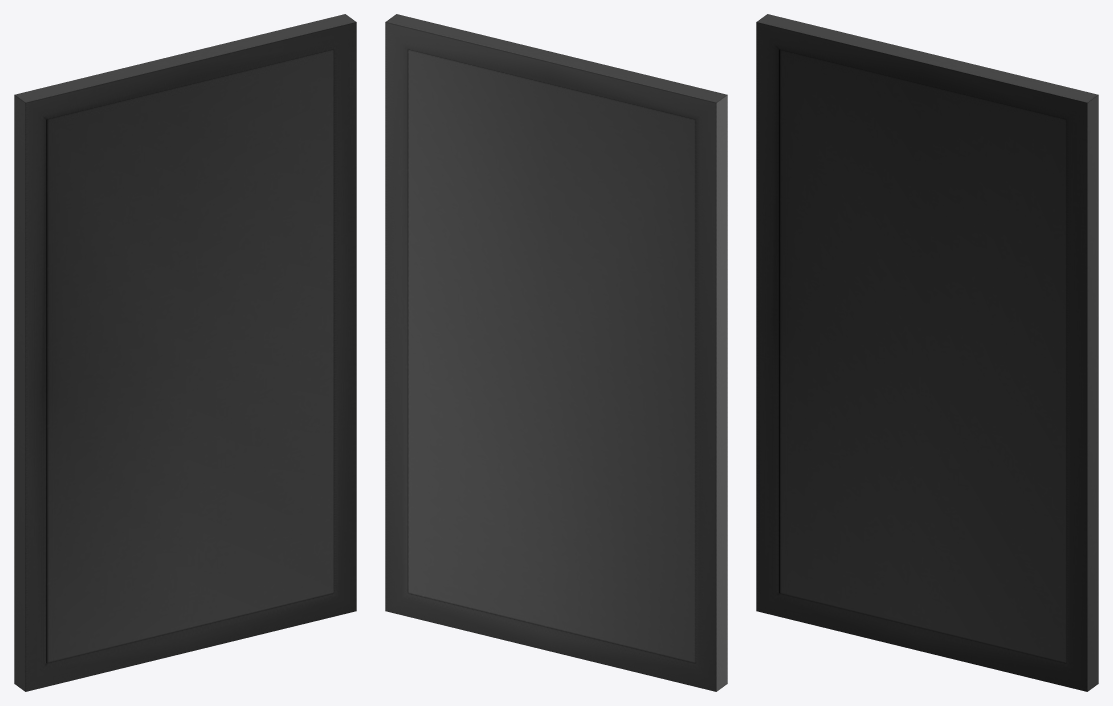
Rendered from divider.obj.
3 views of the same model, side by side, from view 1: azimuth 30°, elevation 25°; view 2: azimuth 150°, elevation 25°; view 3: azimuth 330°, elevation 25° (orthographic).
Parts seen in each view (by area): view 1: Box005; view 2: Box005; view 3: Box005.
Boxes of the visible parts, bbox=[...] form: Box005: bbox=[14, 14, 356, 691]; Box005: bbox=[385, 14, 727, 691]; Box005: bbox=[756, 14, 1098, 691].
Size of the model in its own units: 256 by 435 by 14.79.
1 material, 1 textured.
